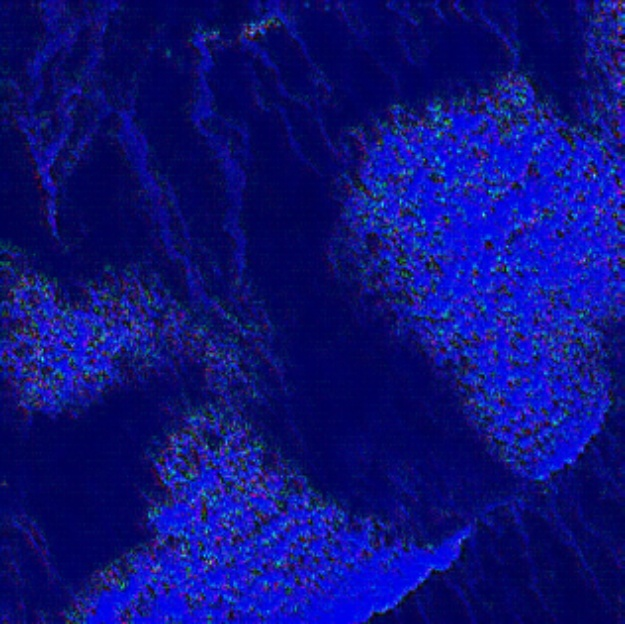rip_current: (130, 134, 510, 574)
